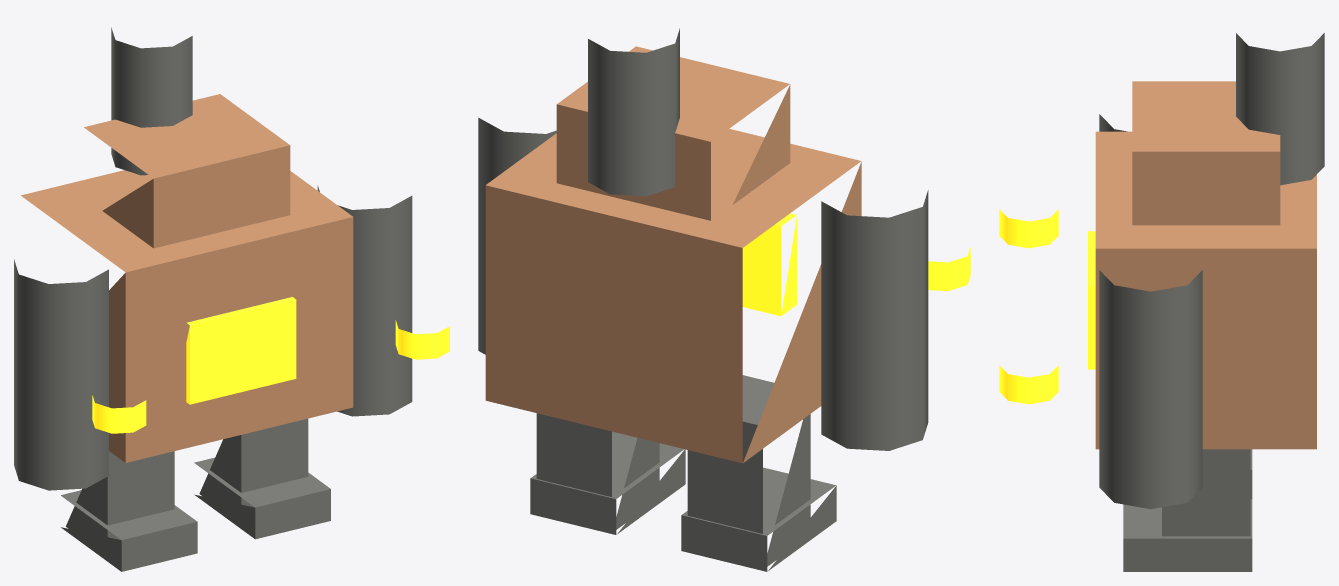
The model's file is golem_steam_04.glb.
The picture shows the model from 3 angles, left to right: view 1: azimuth 30°, elevation 25°; view 2: azimuth 150°, elevation 25°; view 3: azimuth 270°, elevation 25°; orthographic projection. The views are drawn at different scales.
Visible parts, largest first — view 1: SteamBody, SteamIron, SteamGlow; view 2: SteamBody, SteamIron, SteamGlow; view 3: SteamBody, SteamIron, SteamGlow.
Boxes of the visible parts, bbox=[...] form: SteamBody: bbox=[21, 94, 353, 462]; SteamIron: bbox=[14, 27, 412, 571]; SteamGlow: bbox=[92, 297, 449, 433]; SteamBody: bbox=[485, 46, 861, 463]; SteamIron: bbox=[478, 28, 928, 571]; SteamGlow: bbox=[742, 213, 970, 316]; SteamBody: bbox=[1095, 81, 1316, 449]; SteamIron: bbox=[1099, 33, 1324, 571]; SteamGlow: bbox=[999, 209, 1095, 404].
Size of the model in its own units: 1.28 by 1.45 by 0.88.
